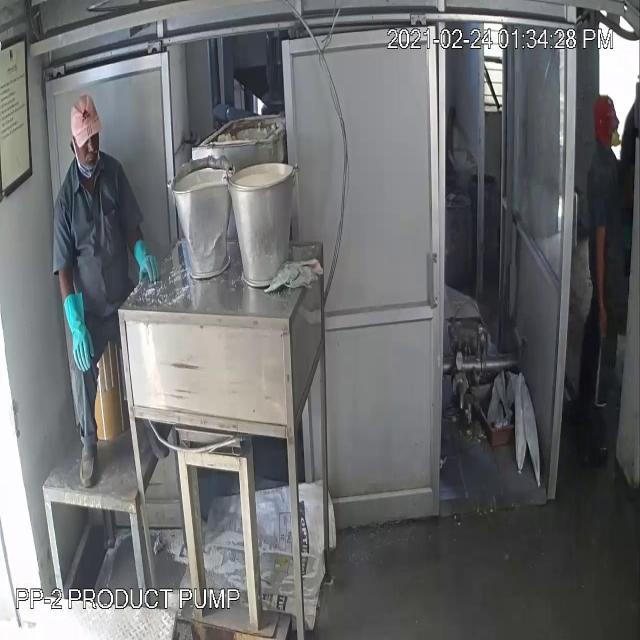no-helmet: (63, 94, 103, 150)
